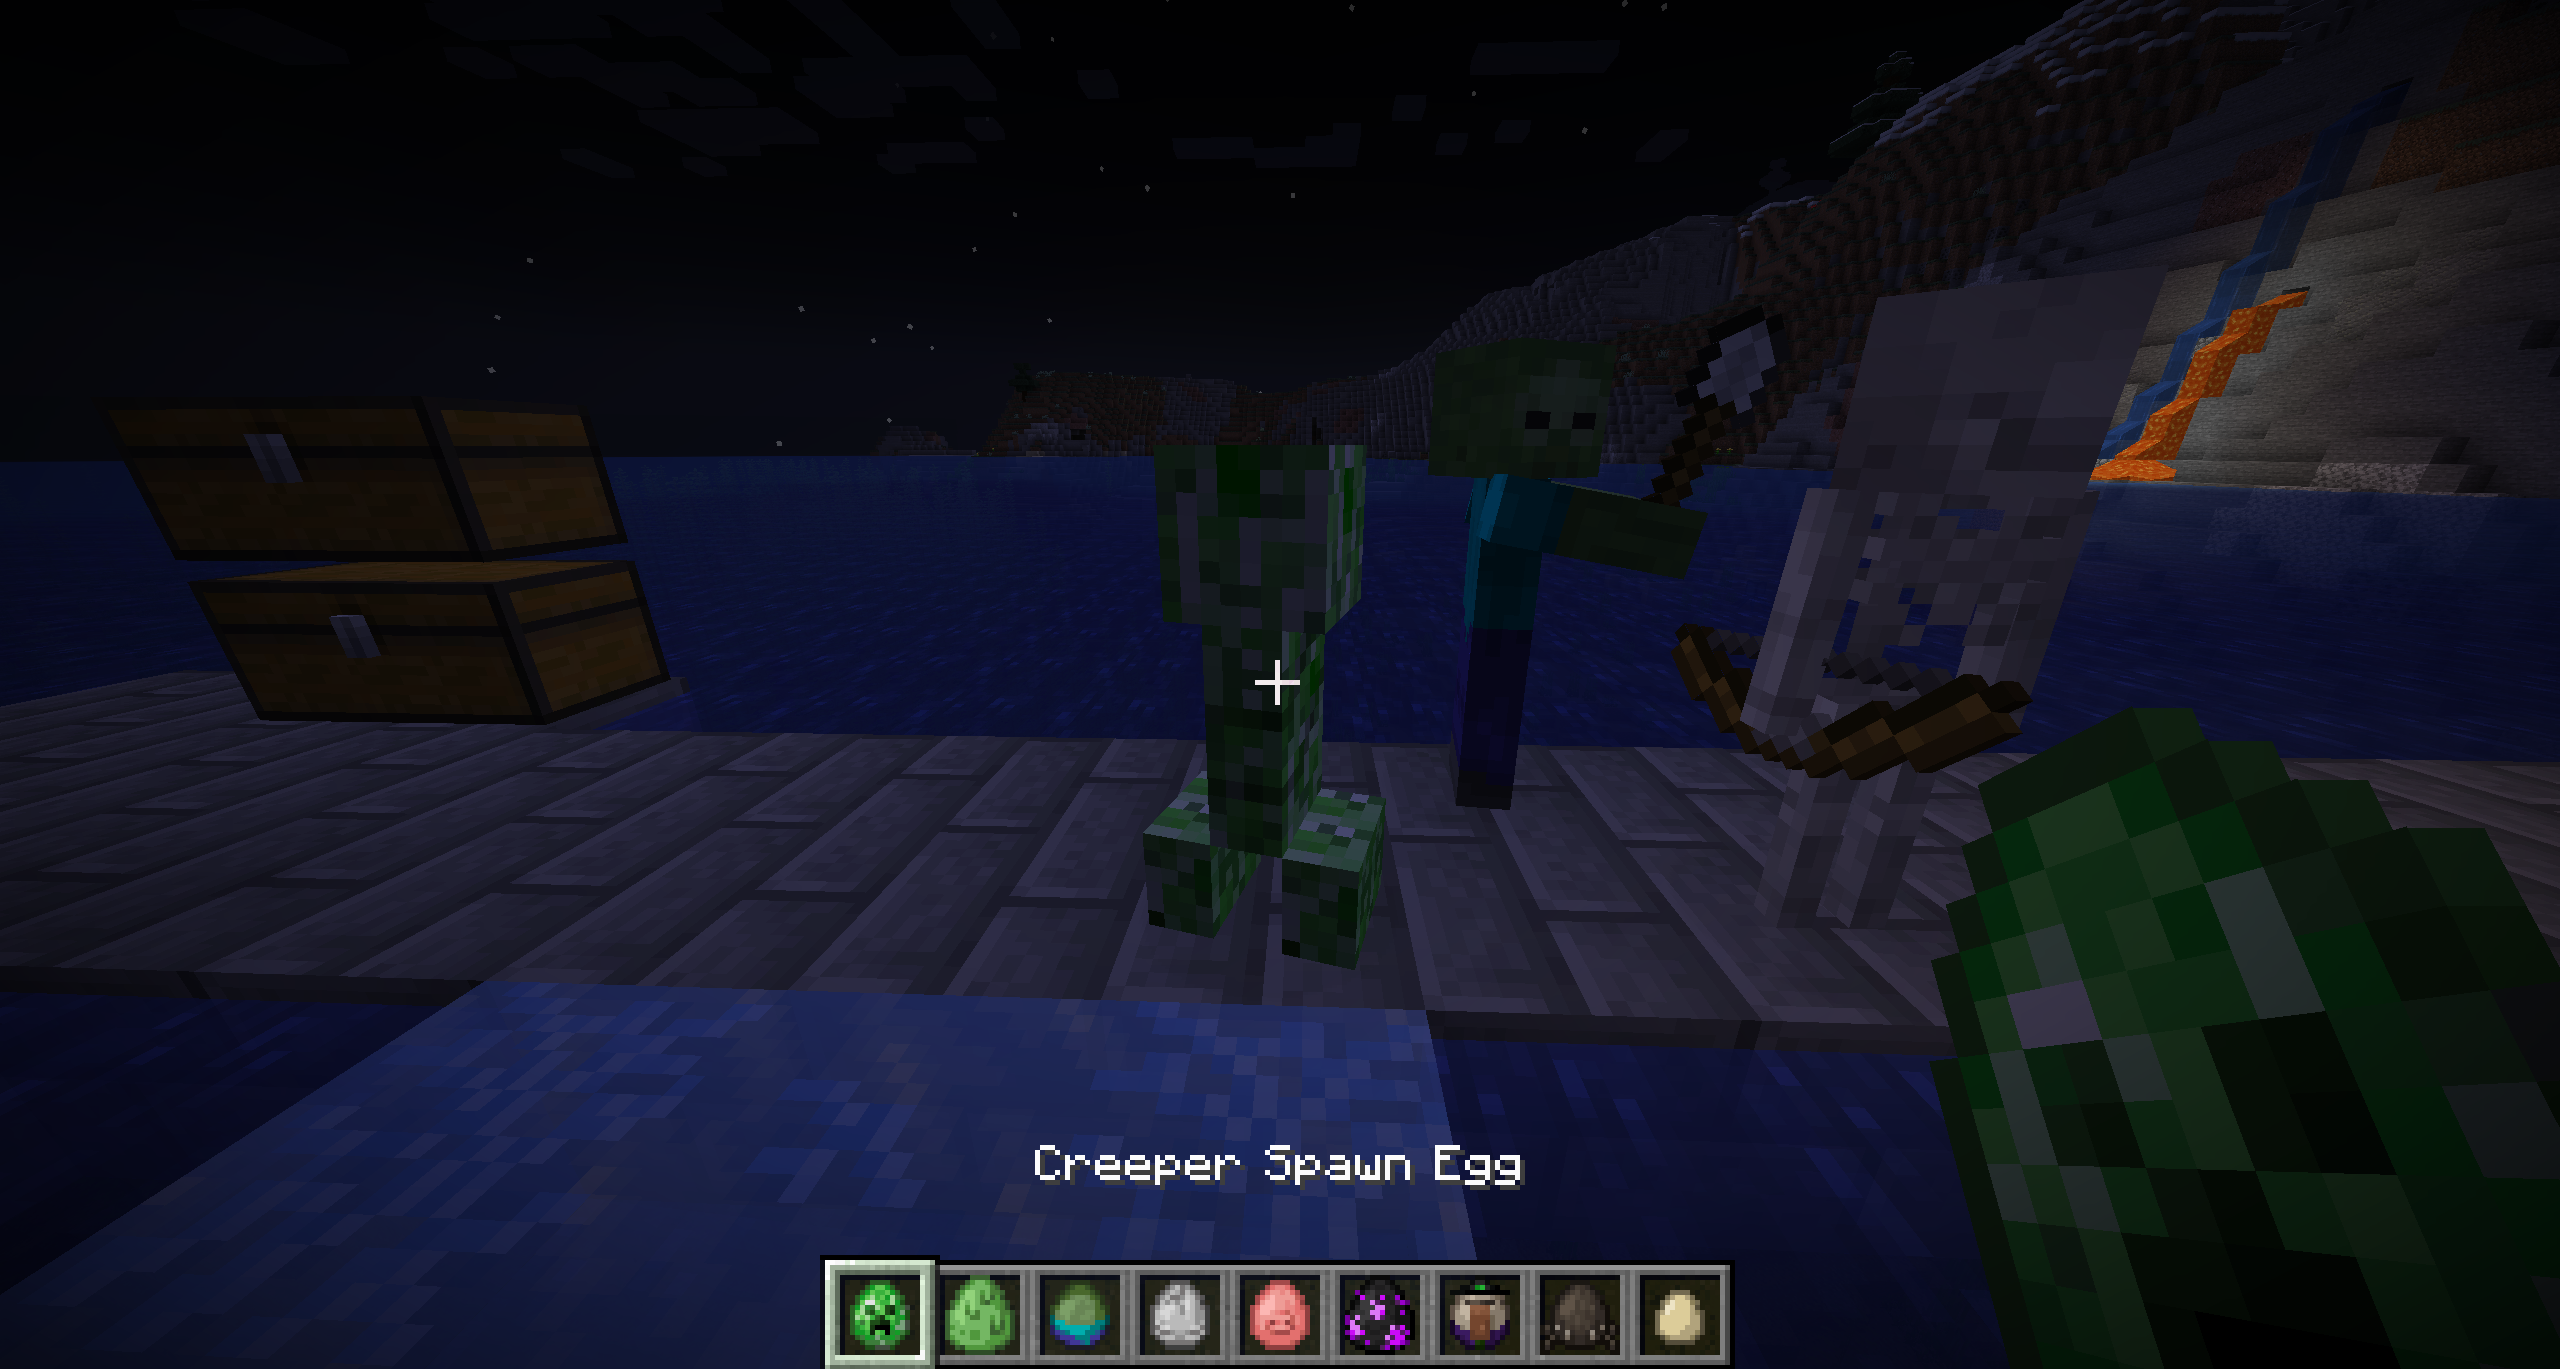creepers: (1146, 435, 1385, 963)
squelettes: (1786, 269, 2138, 975)
zombies: (1424, 347, 1637, 827)
